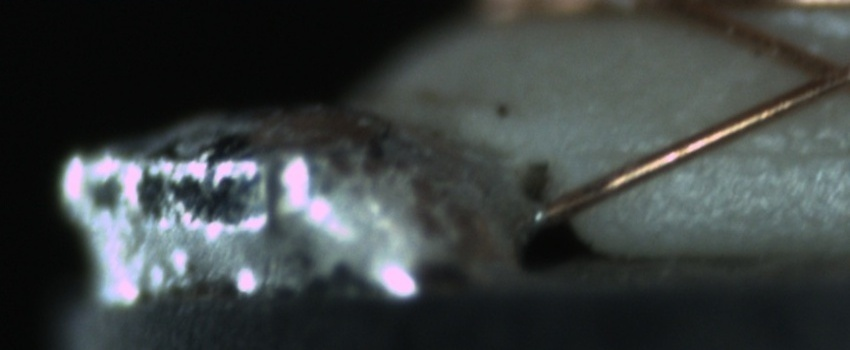CL: (776, 39, 847, 106)
DL: (604, 118, 849, 183)
